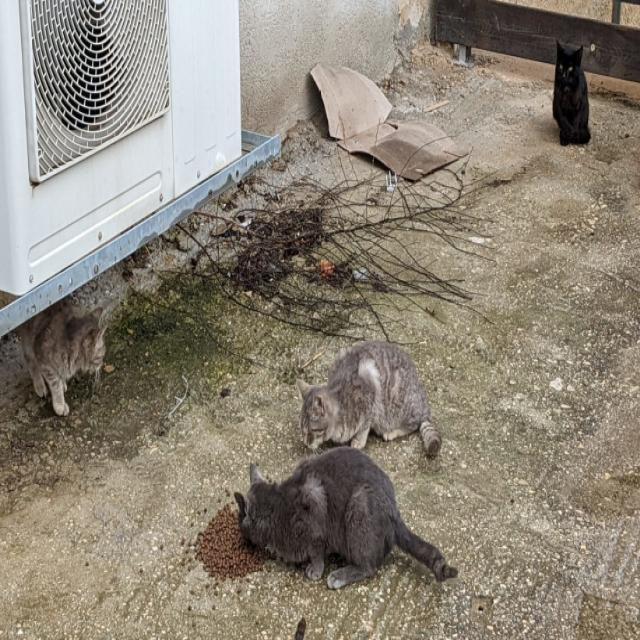cat: (234, 446, 458, 589), (296, 341, 441, 456), (20, 300, 105, 415), (552, 42, 590, 144)
